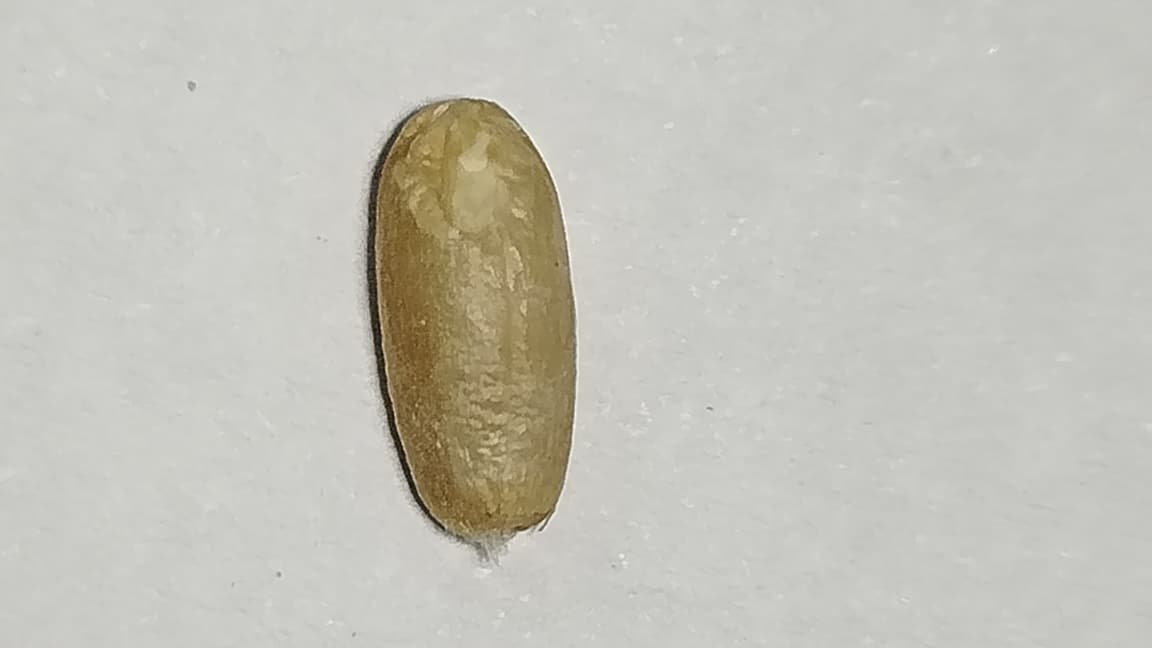healthy: (375, 100, 573, 534)
